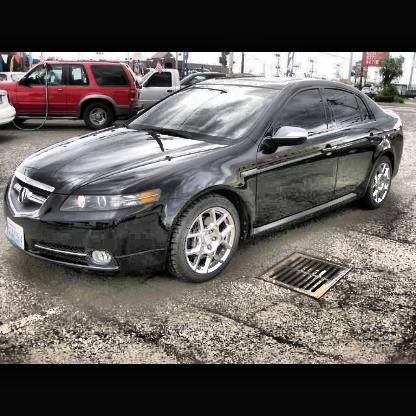Acura TL Type-S 2008: (5, 76, 406, 284)
